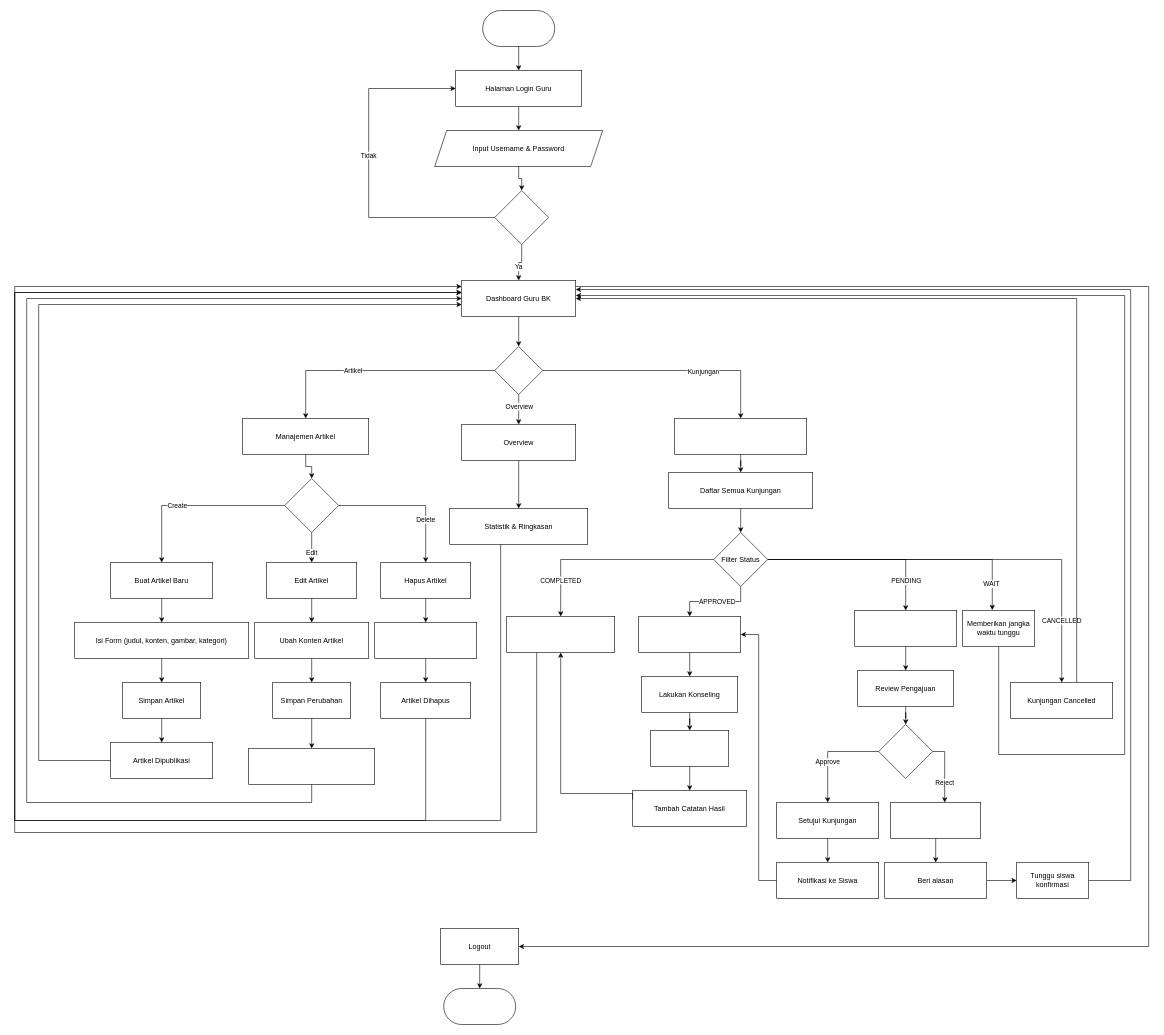
Some shapes in this 1164 by 1035 pixel diagram are drawn without their labels. Each missing label, with the centre of its shape:
Aksi Artikel: [311,505]
Artikel Berhasil Diupdate: [311,766]
Finish: [479,1006]
Keputusan: [905,751]
Konfirmasi Hapus: [425,640]
Kunjungan Approved: [689,634]
Kunjungan Completed: [560,634]
Kunjungan Pending: [905,628]
Login berhasil?: [521,217]
Manajemen Kunjungan: [740,436]
Pilih Menu: [518,370]
Start: [518,28]
Tandai Selesai: [689,748]
Tolak Kunjungan: [935,820]
